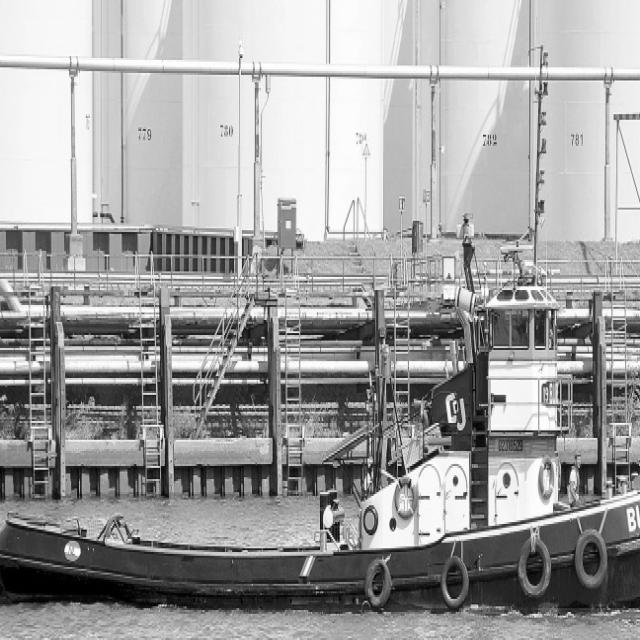tugboat: (1, 34, 640, 640)
